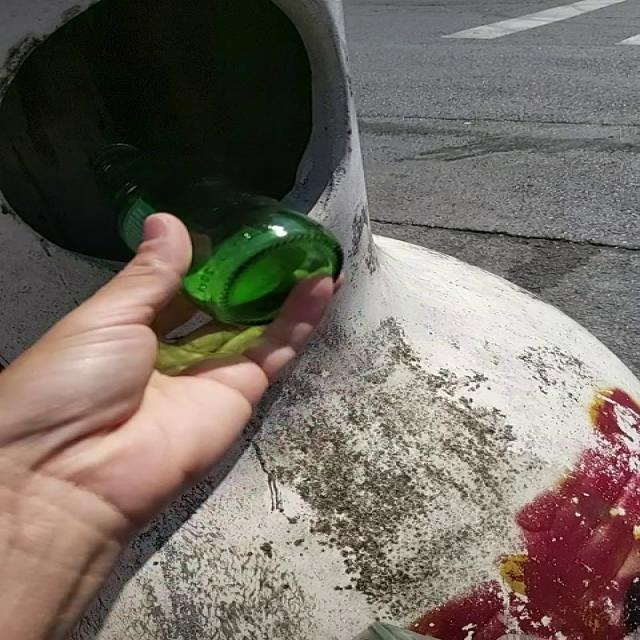glass: (92, 143, 341, 375), (92, 143, 343, 329)
